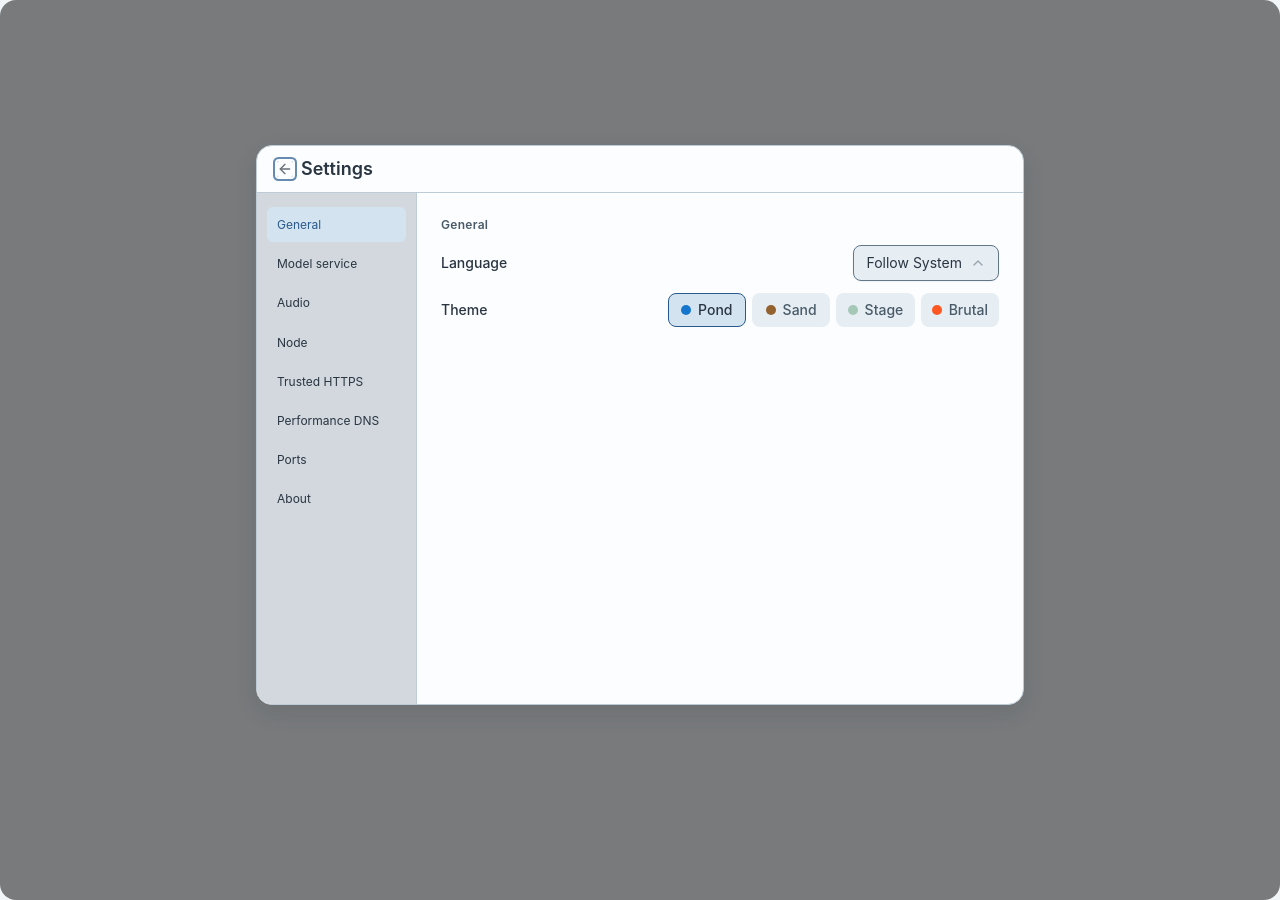
Test: model service settings (#165) › restores public configuration while a Keychain status check is still pending
Click the button "Model service" at (336, 264), box top-left (267, 246), bottom-right (406, 281)
(page scrolled)
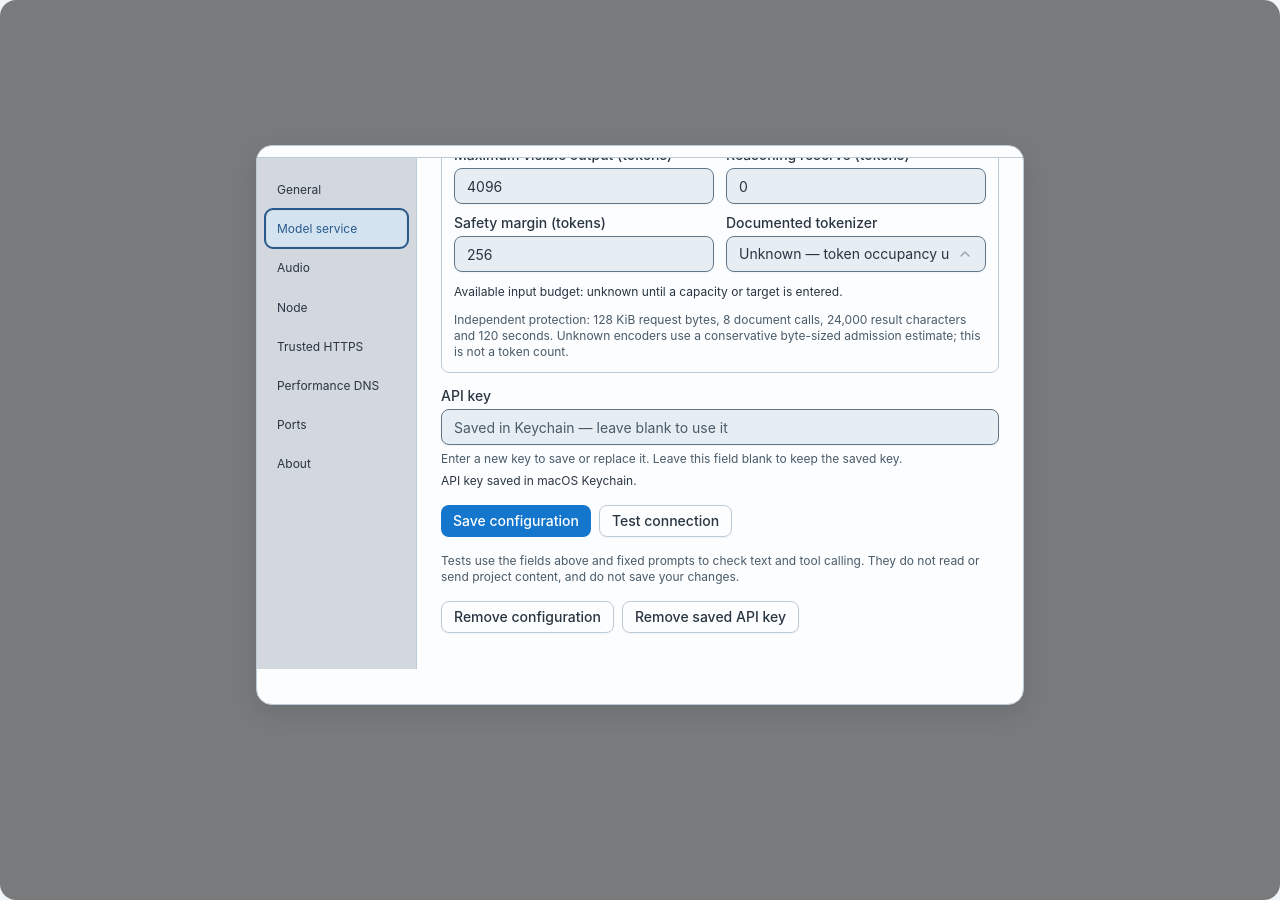
Result: the text "Checking saved API key status…" is shown at top-left (441, 473), bottom-right (637, 488)
